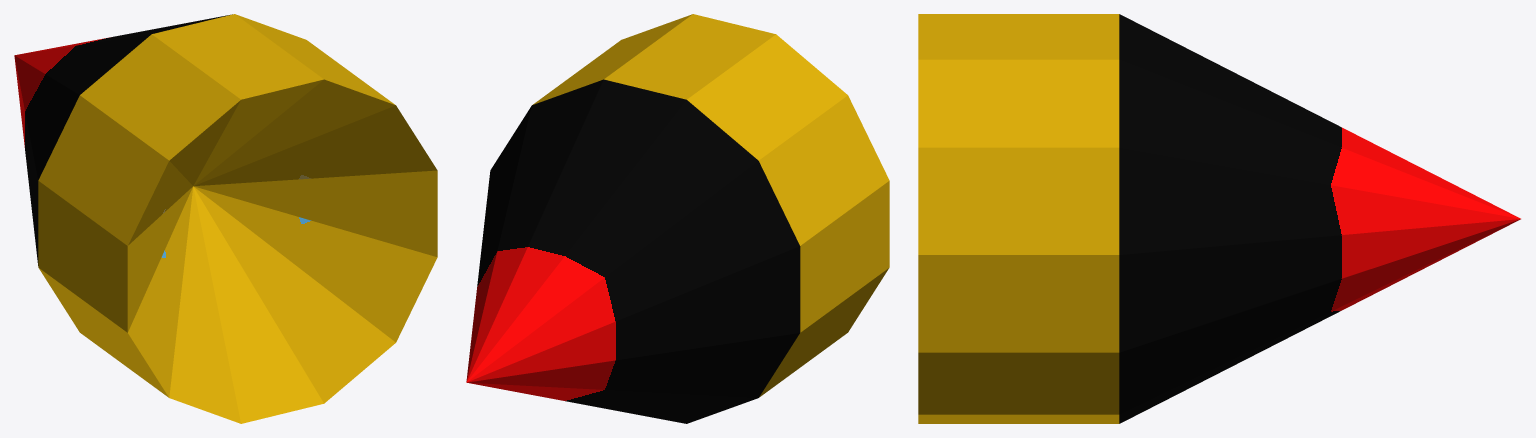
3 renders of one model, left to right at view 1: azimuth 30°, elevation 25°; view 2: azimuth 150°, elevation 25°; view 3: azimuth 270°, elevation 25°, orthographic. The views are drawn at different scales.
Visible parts, largest first — view 1: cylinder, cone; view 2: cone, cylinder; view 3: cone, cylinder.
Part boxes in pixels (<box>): cylinder: <box>38,14,437,423</box>; cone: <box>14,14,232,265</box>; cone: <box>466,79,800,423</box>; cylinder: <box>533,14,889,397</box>; cone: <box>1119,14,1520,423</box>; cylinder: <box>918,14,1119,423</box>.
Bounding box in the file's own units: 0.125 × 0.125 × 0.1875.
1 material, 1 textured.
